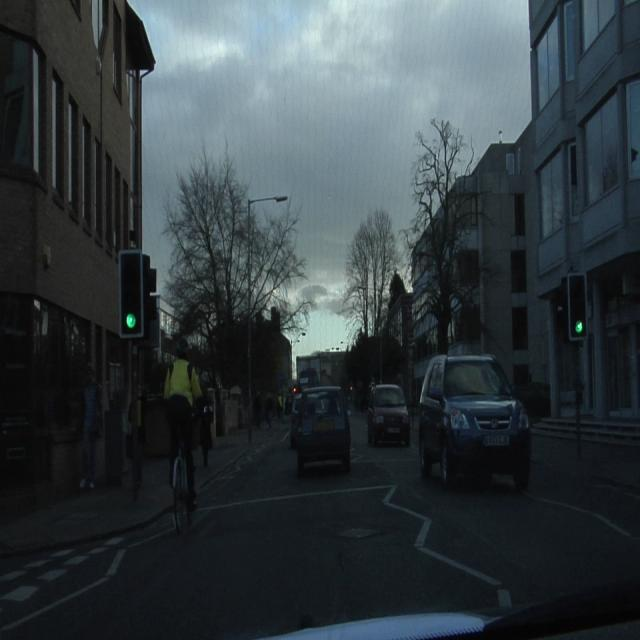Bicyclist: (167, 354, 195, 530)
Building: (470, 1, 638, 424), (1, 4, 150, 424)
Car: (419, 356, 530, 490), (292, 388, 350, 474), (368, 385, 409, 445)
Road: (1, 421, 639, 632)
Tree: (166, 152, 248, 386), (341, 210, 400, 338), (252, 202, 310, 332), (414, 119, 472, 226)
person: (80, 366, 101, 489)
